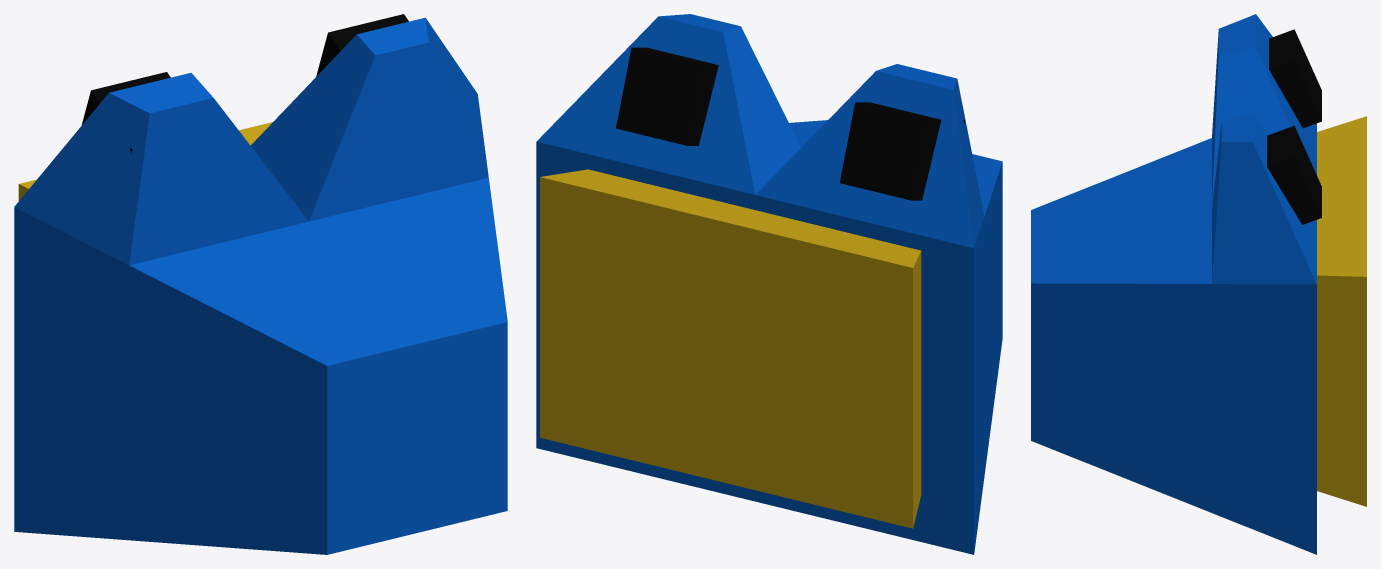
File: enemy.obj
The picture shows the model from 3 angles, left to right: view 1: azimuth 30°, elevation 25°; view 2: azimuth 150°, elevation 25°; view 3: azimuth 270°, elevation 25°; orthographic projection. The views are drawn at different scales.
Parts seen in each view (by area): view 1: 立方体.002; view 2: 立方体.002; view 3: 立方体.002.
Part boxes in pixels (x1,y1,x2,y2): 立方体.002: (14,14,507,554); 立方体.002: (536,14,1002,554); 立方体.002: (1031,14,1366,554).
Size of the model in its own units: 3.51 by 3.27 by 2.65.
